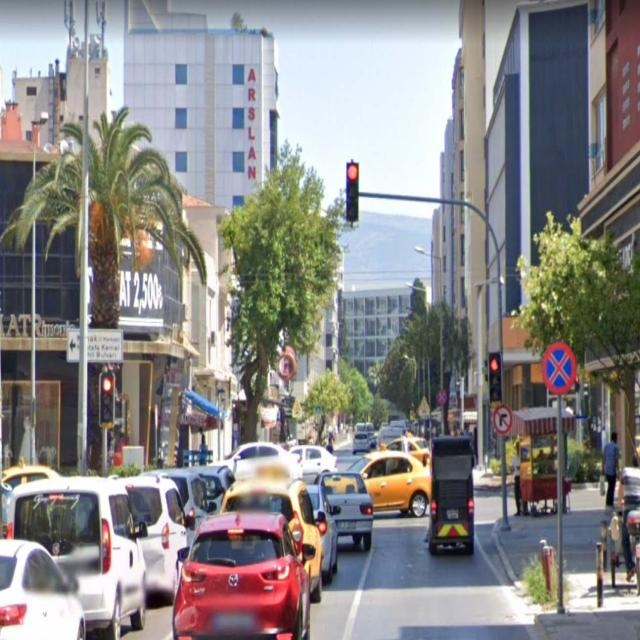kirmizi: (100, 371, 114, 425), (347, 162, 358, 216), (488, 351, 500, 400)
sagadonulmez: (495, 405, 511, 432)
